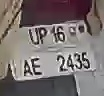1: (51, 26, 58, 43)
2: (56, 51, 67, 74)
3: (73, 52, 83, 69)
4: (66, 54, 75, 72)
5: (81, 51, 90, 70)
6: (56, 24, 66, 42)
A: (21, 59, 33, 77)
E: (31, 57, 43, 74)
P: (38, 26, 48, 46)
U: (28, 28, 40, 46)
